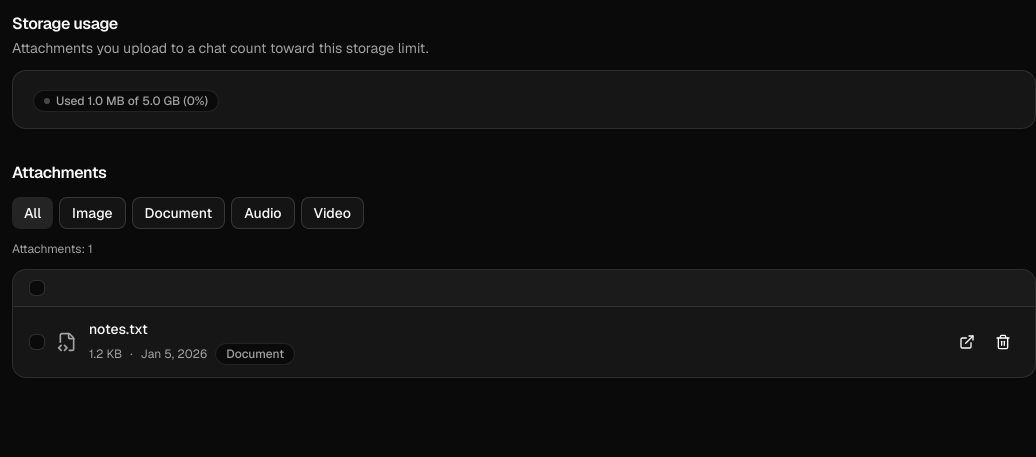
Test: FilesScreen › clears the selection when the category changes
This screenshot has width=1036, height=457.
Expected: the text "notes.txt" is shown, [89,320,148,338]
Click the checkbox named "Select notes.txt". click: point(37, 342)
box: [29,334,45,350]
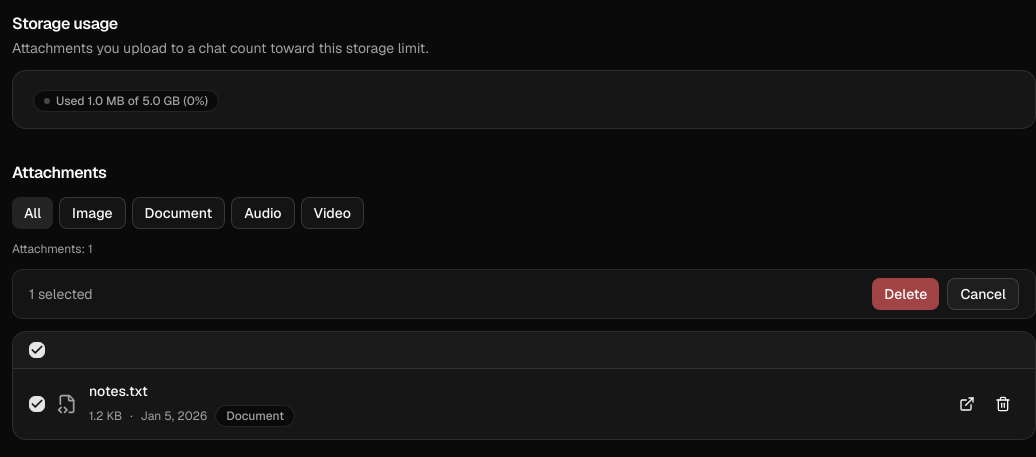
Expected: the text "1 selected" is shown, [29,284,93,304]
Click the button "Image". click: point(92, 213)
box: [59,197,126,229]
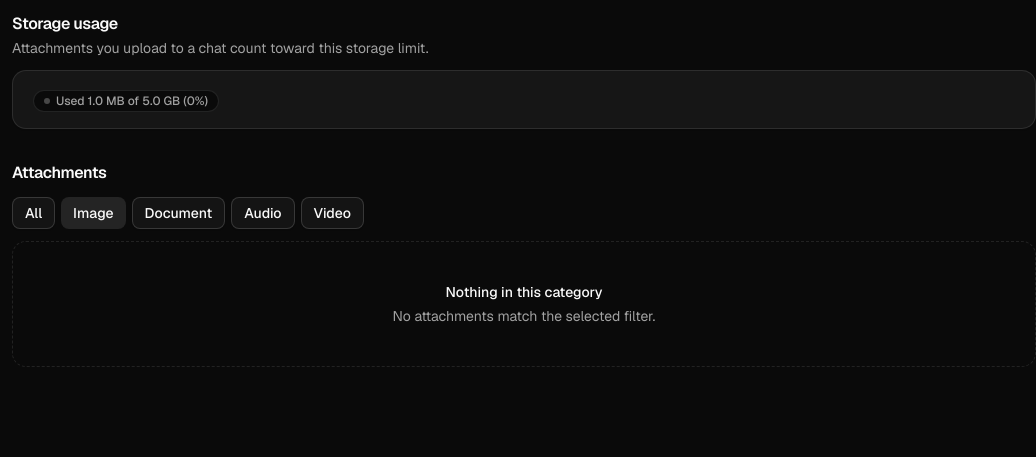
Expected: the text "Nothing in this category" is shown, [446,282,602,302]
Expected: the text "1 selected" is gone
